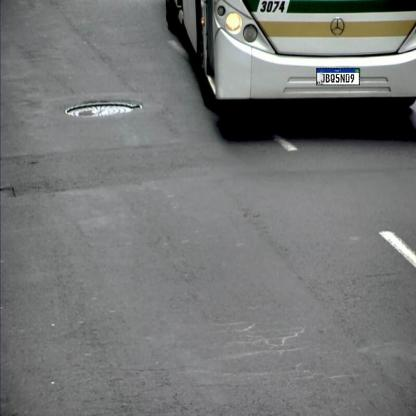PlacaM: (316, 68, 360, 85)
